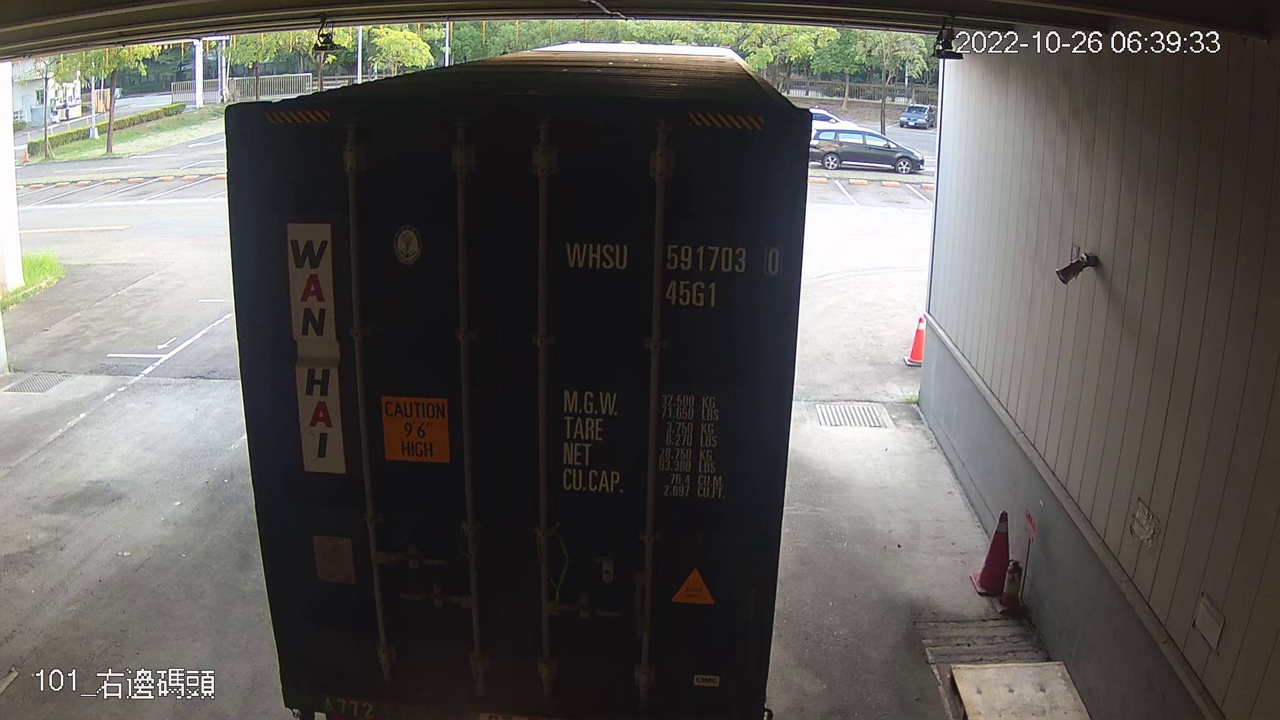container: (559, 230, 789, 309)
